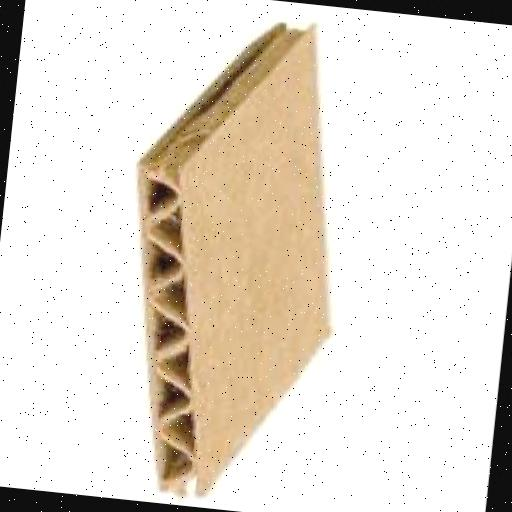cardboard: (107, 9, 368, 512)
